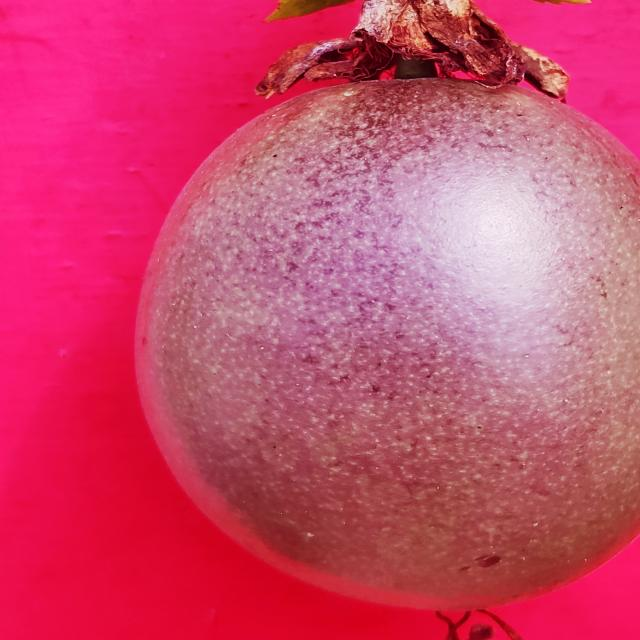Estado-3: (136, 0, 640, 615)
